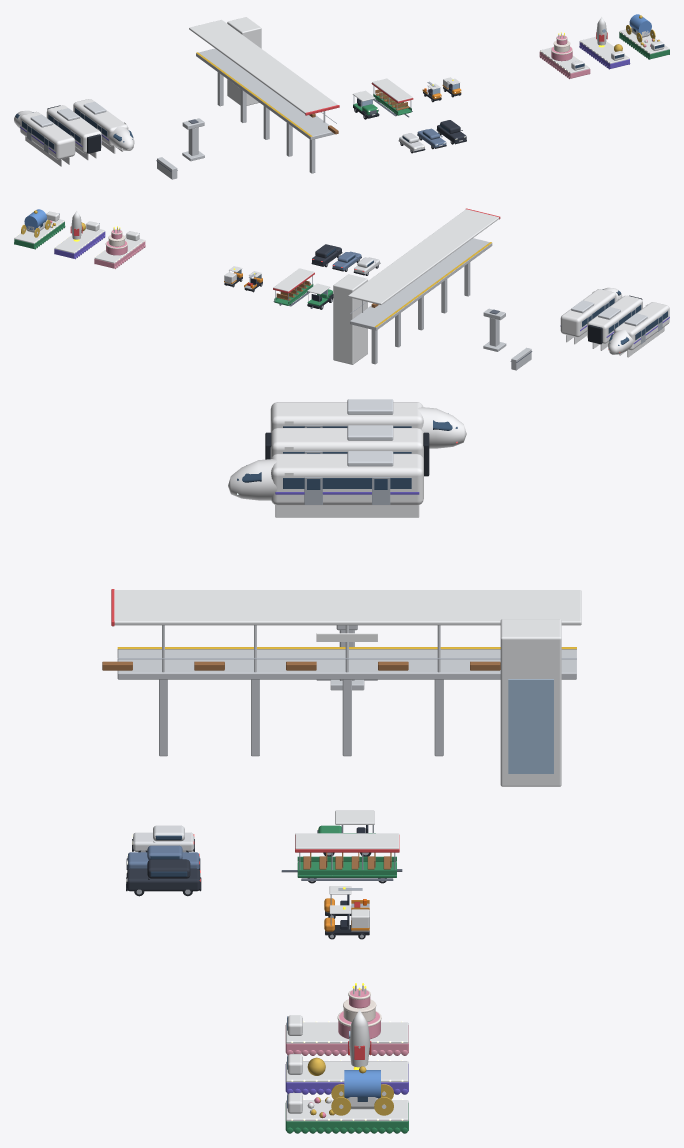
Rendered from transport.glb.
3 views of the same model, one above another, from view 1: azimuth 30°, elevation 25°; view 2: azimuth 150°, elevation 25°; view 3: azimuth 270°, elevation 25° (orthographic). The views are drawn at different scales.
Visible parts, largest first — view 1: monorail_station_body, monorail_car_tail_body, monorail_car_lead_body, monorail_car_mid_body, float_carriage_body, float_rocket_body, float_cake_body, tram_trailer_body, monorail_pylon_body, tram_tractor_body, car_suv_body, car_sedan_body (+3 smaller); view 2: monorail_station_body, monorail_car_tail_body, monorail_car_lead_body, monorail_car_mid_body, float_carriage_body, float_cake_body, float_rocket_body, tram_trailer_body, monorail_pylon_body, tram_tractor_body, car_suv_body, car_sedan_body (+3 smaller); view 3: monorail_station_body, monorail_car_lead_body, float_carriage_body, monorail_car_tail_body, tram_trailer_body, float_cake_body, monorail_car_mid_body, float_rocket_body, car_suv_body, car_hatch_body, maint_cart_box_body, car_sedan_body.
Boxes of the visible parts, x1,y1,x2,y2 form: monorail_station_body: (189, 17, 339, 173); monorail_car_tail_body: (14, 110, 75, 166); monorail_car_lead_body: (73, 99, 134, 153); monorail_car_mid_body: (46, 105, 101, 160); float_carriage_body: (619, 14, 669, 59); float_rocket_body: (579, 17, 630, 69); float_cake_body: (539, 32, 590, 79); tram_trailer_body: (371, 78, 413, 117); monorail_pylon_body: (182, 118, 204, 161); tram_tractor_body: (352, 90, 379, 118); car_suv_body: (436, 120, 466, 144); car_sedan_body: (417, 128, 446, 148); monorail_station_body: (333, 208, 500, 364); monorail_car_tail_body: (608, 302, 669, 357); monorail_car_lead_body: (560, 287, 622, 344); monorail_car_mid_body: (587, 295, 642, 350); float_carriage_body: (14, 209, 65, 249); float_cake_body: (94, 226, 145, 268); float_rocket_body: (54, 211, 105, 259); tram_trailer_body: (273, 268, 314, 306); monorail_pylon_body: (483, 308, 506, 351); tram_tractor_body: (307, 283, 333, 308); car_suv_body: (311, 244, 342, 266); car_sedan_body: (332, 251, 361, 271); monorail_station_body: (102, 589, 581, 786); monorail_car_lead_body: (228, 451, 423, 517); float_carriage_body: (285, 1066, 408, 1133); monorail_car_tail_body: (270, 399, 466, 448); tram_trailer_body: (281, 833, 402, 880); float_cake_body: (285, 983, 408, 1055); monorail_car_mid_body: (265, 425, 429, 476); float_rocket_body: (285, 1010, 408, 1094); car_suv_body: (126, 859, 201, 891); car_hatch_body: (132, 825, 194, 851); maint_cart_box_body: (323, 905, 369, 935); car_sedan_body: (126, 845, 200, 869).
Size of the model in its own units: 93.11 by 12.3 by 31.3.
